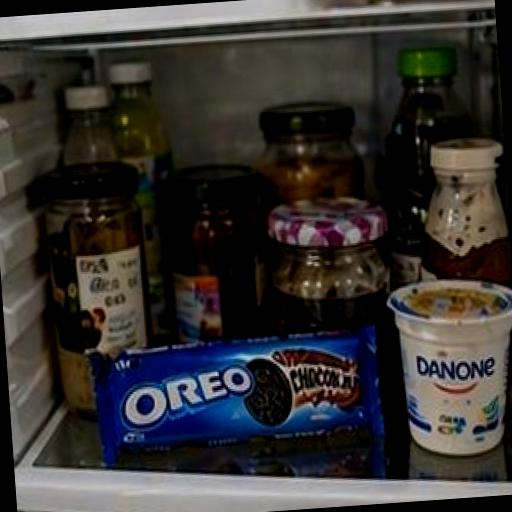oreo: (64, 261, 448, 496)
